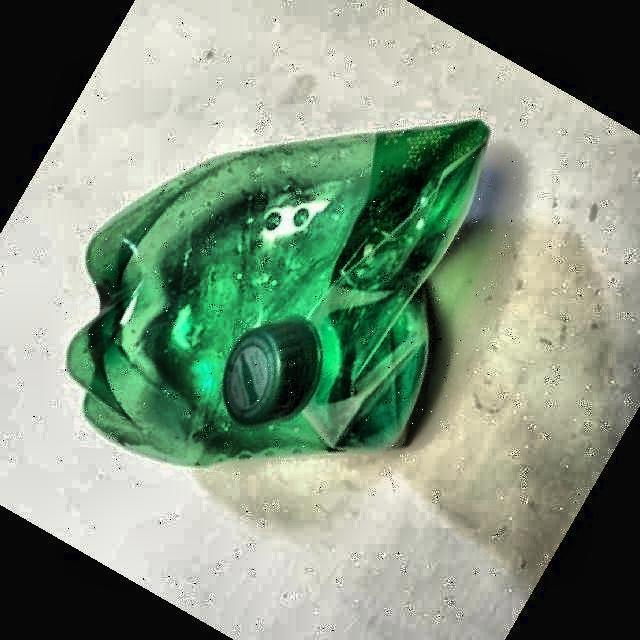plastic: (68, 121, 489, 464)
